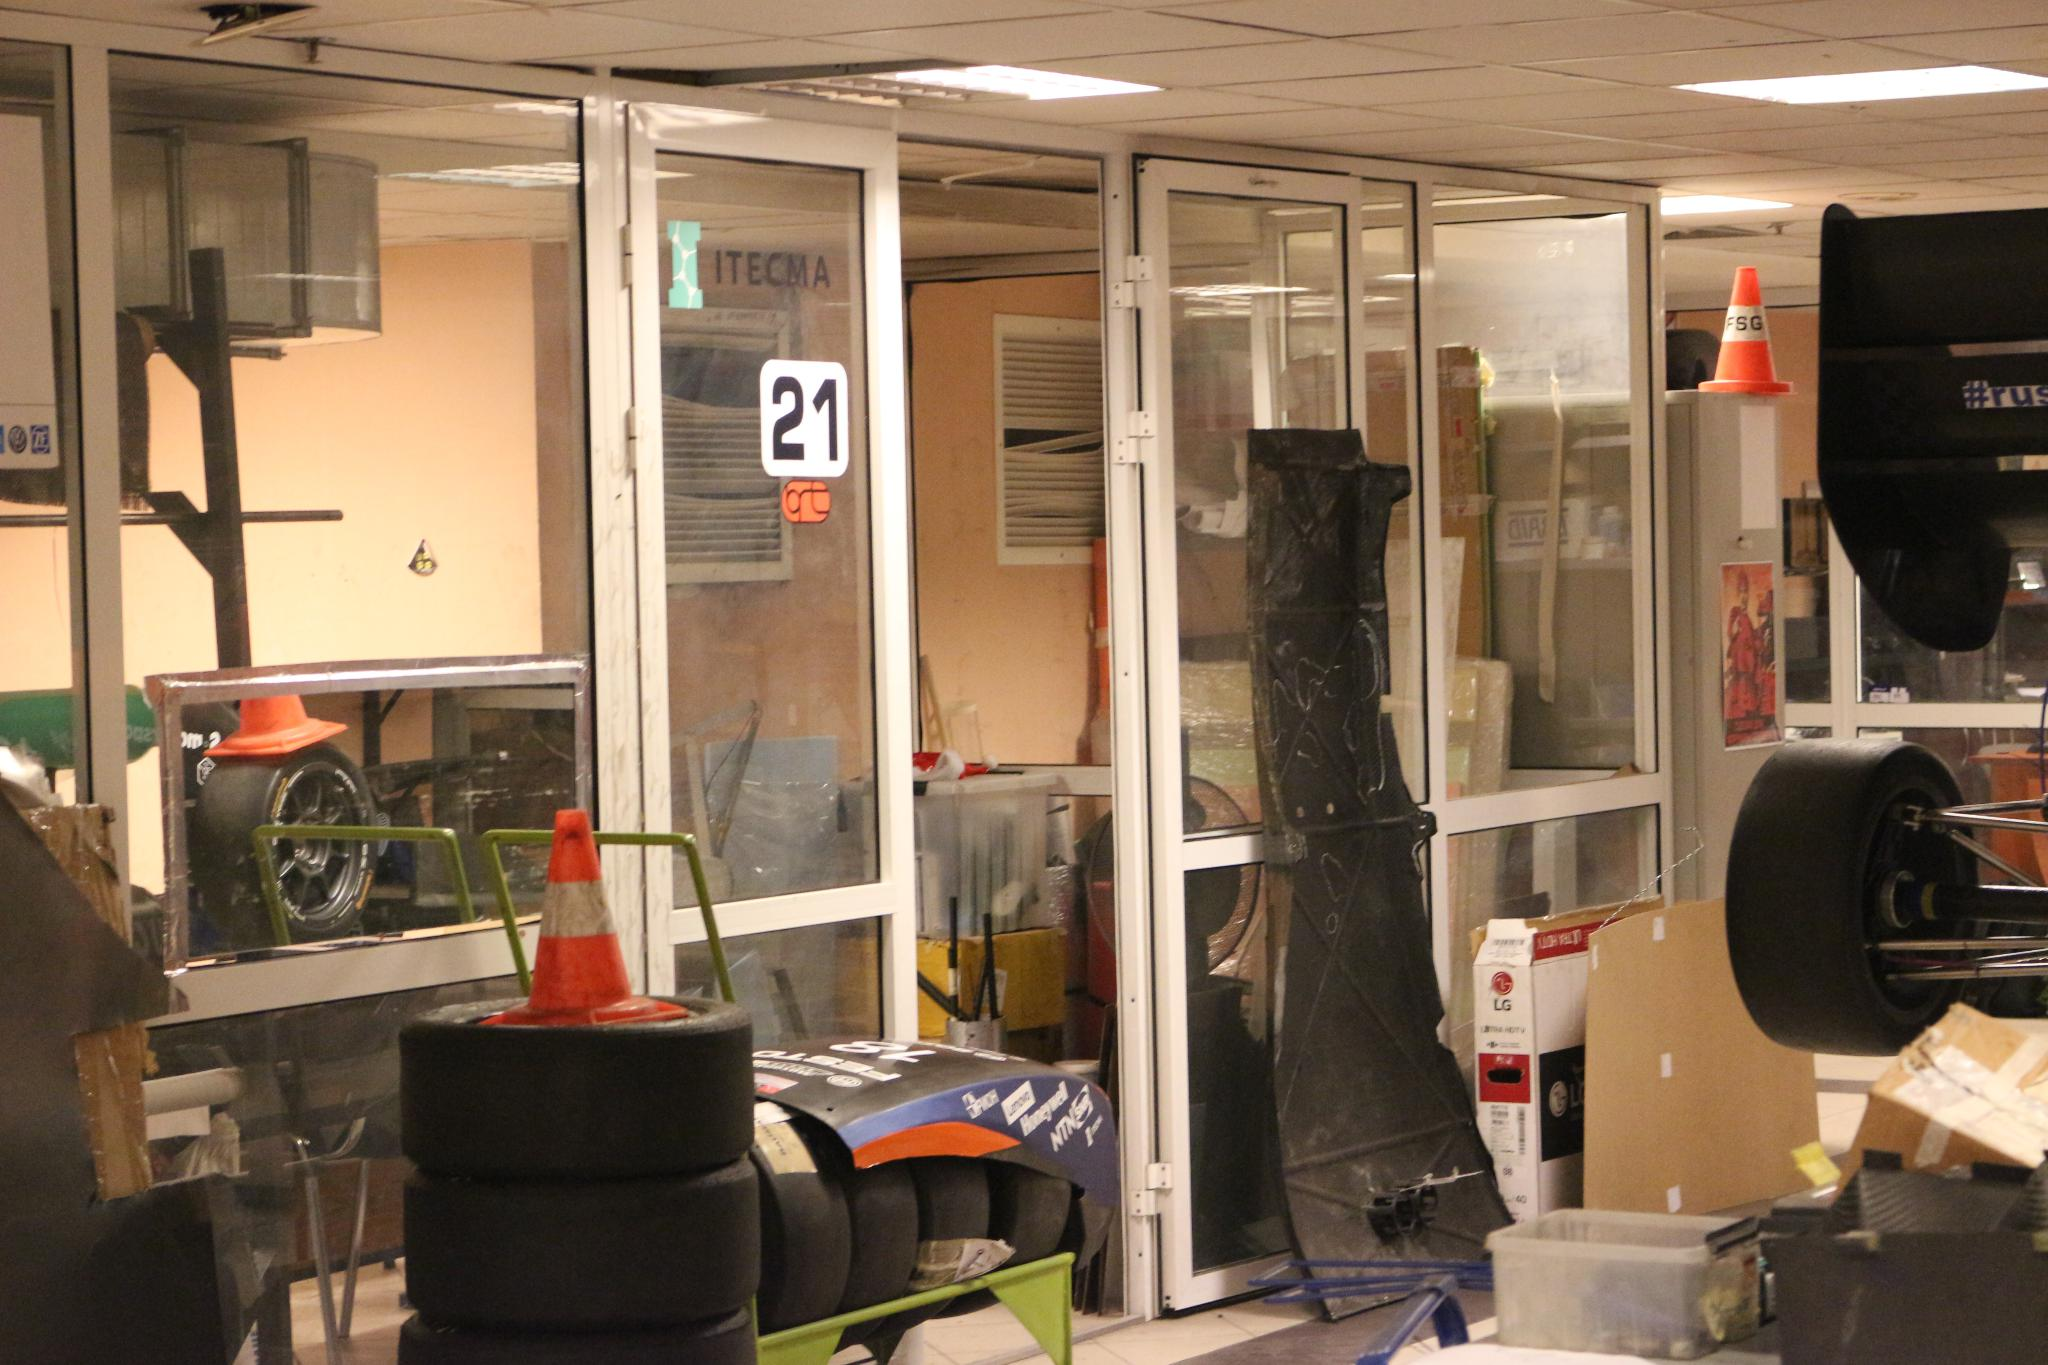Orange_Cone: (471, 800, 684, 1034), (1687, 262, 1801, 401)
